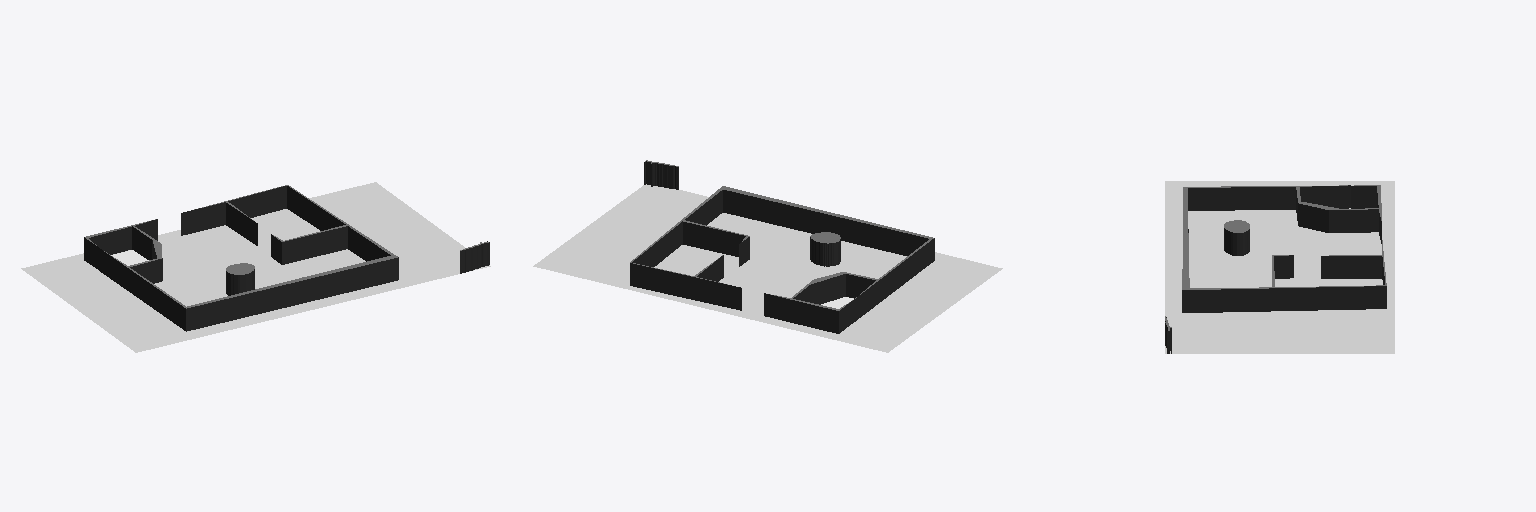
The model's file is c86bba5e-6335-4f84-af2f-8eae42e3d52c.obj.
The picture shows the model from 3 angles: view 1: azimuth 30°, elevation 25°; view 2: azimuth 150°, elevation 25°; view 3: azimuth 270°, elevation 25°; orthographic projection.
Parts seen in each view (by area): view 1: Floor, Box8Wall160, Box8Wall159, Box8Wall171, VertWalls17, Box8Wall166, Box8Wall167, Box8Wall163, Box8Wall154, Box8Wall164, Box8Wall172; view 2: Floor, Box8Wall173, Box8Wall162, Box8Wall159, Box8Wall179, VertWalls17, Box8Wall168, Box8Wall167, Box8Wall156, Box8Wall172; view 3: Floor, Box8Wall161, Box8Wall174, VertWalls17, Box8Wall165, Box8Wall177, Box8Wall158, Box8Wall176, Box8Wall153.
Part boxes in pixels (x1,y1,x2,y2): Floor: (21, 182, 490, 352); Box8Wall160: (186, 257, 398, 331); Box8Wall159: (99, 248, 185, 330); Box8Wall171: (282, 226, 347, 264); VertWalls17: (85, 185, 397, 308); Box8Wall166: (228, 186, 286, 217); Box8Wall167: (287, 186, 345, 230); Box8Wall163: (181, 202, 225, 235); Box8Wall154: (89, 227, 131, 254); Box8Wall164: (226, 203, 257, 245); Box8Wall172: (348, 226, 390, 261); Floor: (533, 184, 1002, 352); Box8Wall173: (723, 190, 928, 255); Box8Wall162: (630, 263, 741, 310); Box8Wall159: (853, 238, 934, 322); Box8Wall179: (764, 293, 838, 333); VertWalls17: (630, 186, 933, 310); Box8Wall168: (683, 222, 745, 256); Box8Wall167: (632, 221, 682, 266); Box8Wall156: (810, 274, 845, 304); Box8Wall172: (685, 190, 722, 225); Floor: (1165, 181, 1394, 353); Box8Wall161: (1182, 286, 1386, 312); Box8Wall174: (1188, 187, 1295, 210); VertWalls17: (1182, 185, 1386, 289); Box8Wall165: (1321, 256, 1381, 278); Box8Wall177: (1329, 209, 1378, 232); Box8Wall158: (1300, 185, 1350, 208); Box8Wall176: (1298, 203, 1328, 232); Box8Wall153: (1351, 186, 1376, 208).
Size of the model in its own units: 40.31 by 2.5 by 22.67.